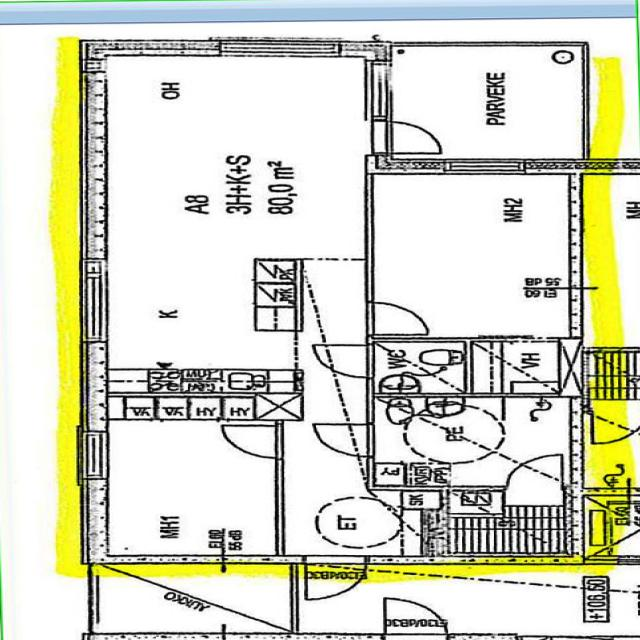door: (365, 120, 448, 153), (305, 555, 366, 598), (219, 425, 284, 457), (311, 345, 373, 377), (311, 424, 373, 455), (365, 303, 427, 334), (508, 454, 562, 489)
